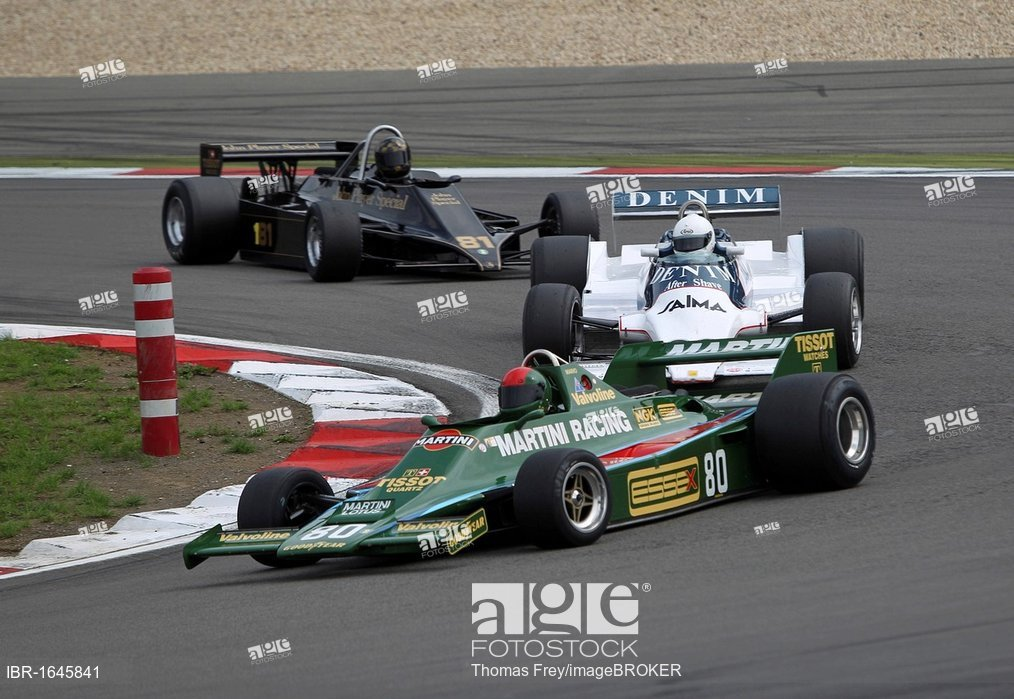f1_car: (177, 316, 891, 589), (151, 110, 616, 293), (515, 169, 879, 396)
helmet: (490, 361, 561, 427), (663, 203, 722, 266), (370, 133, 416, 182)
